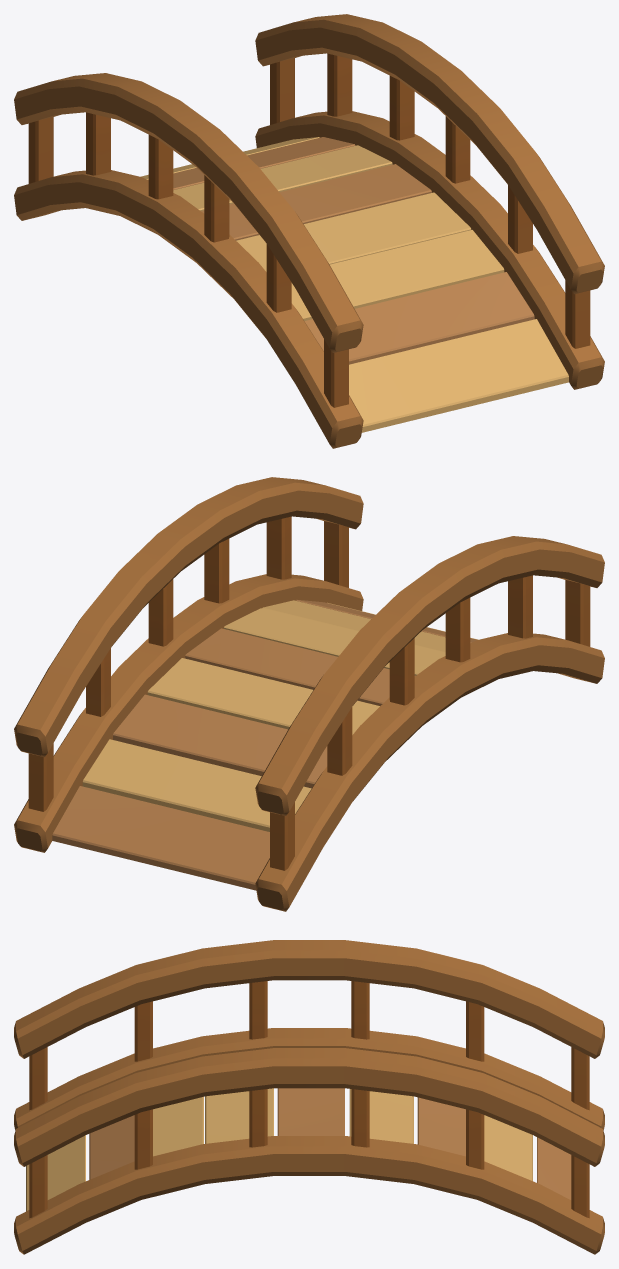
Rendered from Bench_1_1.fbx.
3 views of the same model, one above another, from view 1: azimuth 30°, elevation 25°; view 2: azimuth 150°, elevation 25°; view 3: azimuth 270°, elevation 25° (orthographic). The views are drawn at different scales.
Parts seen in each view (by area): view 1: Bridge_1_1; view 2: Bridge_1_1; view 3: Bridge_1_1.
Part boxes in pixels (x1=…): Bridge_1_1: x1=14, y1=14, x2=604, y2=448; Bridge_1_1: x1=14, y1=477, x2=604, y2=911; Bridge_1_1: x1=14, y1=940, x2=604, y2=1254.
Bounding box in the file's own units: 200 × 150 × 409.
